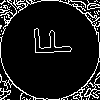F: (25, 25, 72, 58)
